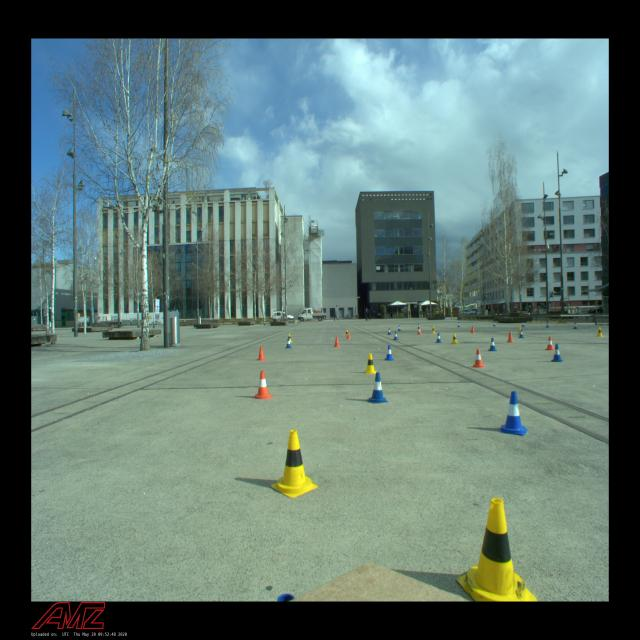blue_cone: (497, 392, 528, 435), (366, 372, 389, 404), (550, 344, 564, 362), (384, 344, 394, 360), (488, 338, 497, 351), (285, 338, 292, 348), (435, 333, 442, 343), (393, 332, 399, 341), (518, 329, 524, 338), (573, 322, 577, 330), (388, 328, 392, 335), (398, 325, 402, 331), (521, 321, 525, 327), (546, 322, 550, 328), (417, 324, 421, 329), (493, 322, 496, 326), (458, 323, 460, 327)
orange_cone: (253, 371, 273, 399), (472, 349, 486, 368), (544, 336, 556, 351), (257, 346, 266, 361), (333, 336, 341, 348), (507, 332, 514, 342), (470, 326, 476, 334), (346, 331, 351, 339), (417, 328, 422, 335)
yellow_cone: (455, 498, 538, 602), (270, 430, 318, 498), (363, 353, 378, 374), (596, 327, 604, 337), (451, 333, 458, 344), (286, 333, 292, 342), (344, 330, 350, 337), (517, 327, 522, 335), (431, 326, 436, 333)
